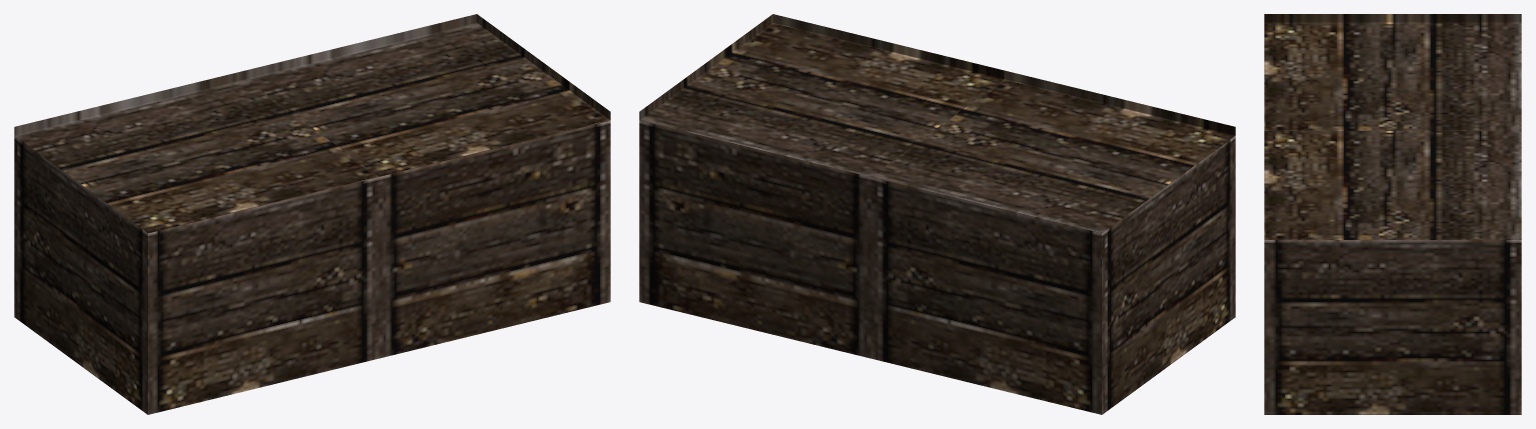
File: Crate 2.fbx
3 renders of one model, left to right at view 1: azimuth 30°, elevation 25°; view 2: azimuth 150°, elevation 25°; view 3: azimuth 270°, elevation 25°, orthographic. The views are drawn at different scales.
Parts seen in each view (by area): view 1: Crate 2; view 2: Crate 2; view 3: Crate 2.
Part boxes in pixels (x1,y1,x2,y2): Crate 2: [14, 14, 610, 414]; Crate 2: [639, 14, 1235, 414]; Crate 2: [1264, 14, 1521, 414].
Size of the model in its own units: 0.889 by 0.3495 by 0.4445.
